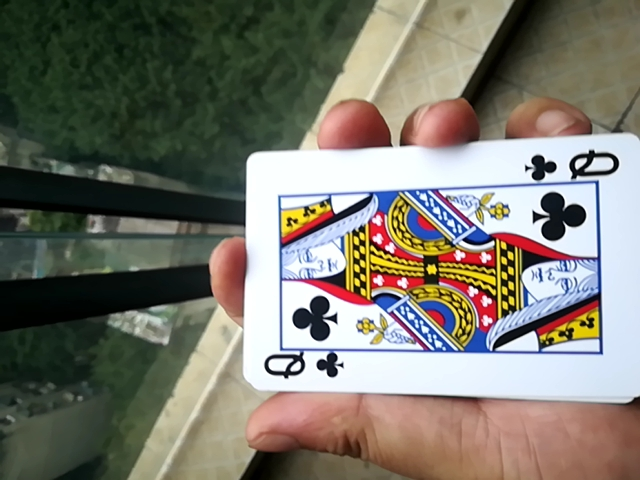mh q: (208, 135, 615, 403)
